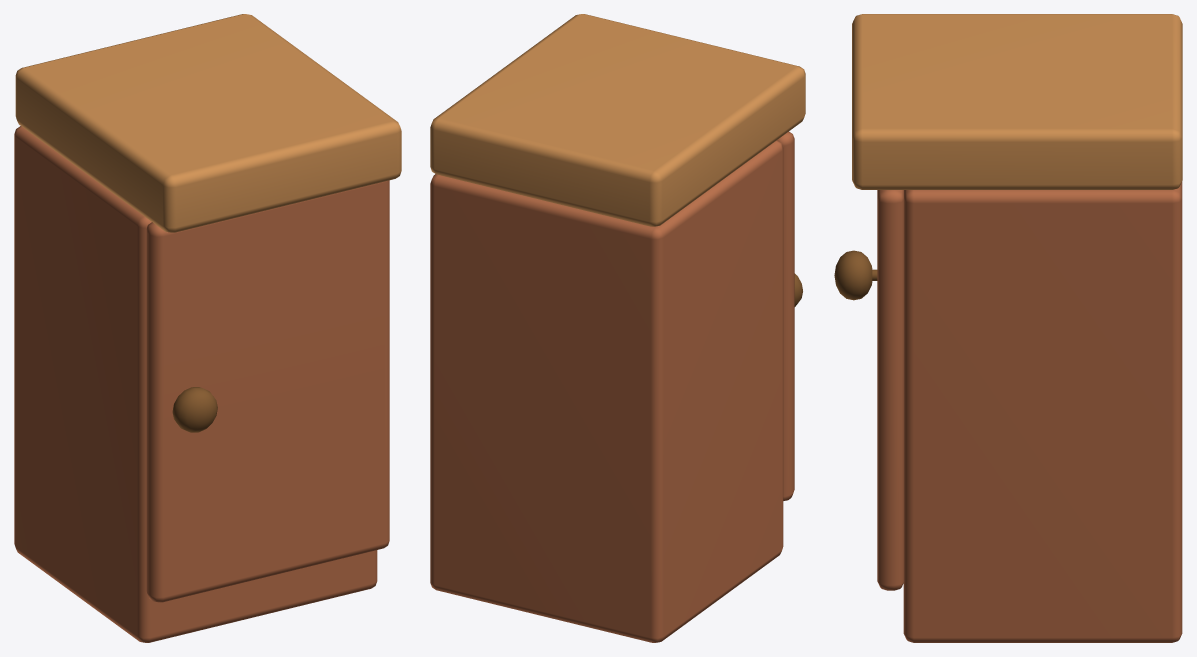
Rendered from SM_cabinet_Right.glb.
3 views of the same model, side by side, from view 1: azimuth 30°, elevation 25°; view 2: azimuth 150°, elevation 25°; view 3: azimuth 270°, elevation 25° (orthographic). The views are drawn at different scales.
Visible parts, largest first — view 1: SM_cabinet_Right; view 2: SM_cabinet_Right; view 3: SM_cabinet_Right.
Boxes of the visible parts, box(x1,y1,x2,y2) form: SM_cabinet_Right: box(14, 14, 401, 642); SM_cabinet_Right: box(430, 14, 805, 642); SM_cabinet_Right: box(834, 14, 1182, 642).
Bounding box in the file's own units: 0.564 × 1.09 × 0.6715.
Materials: 1 (1 with a texture image).
